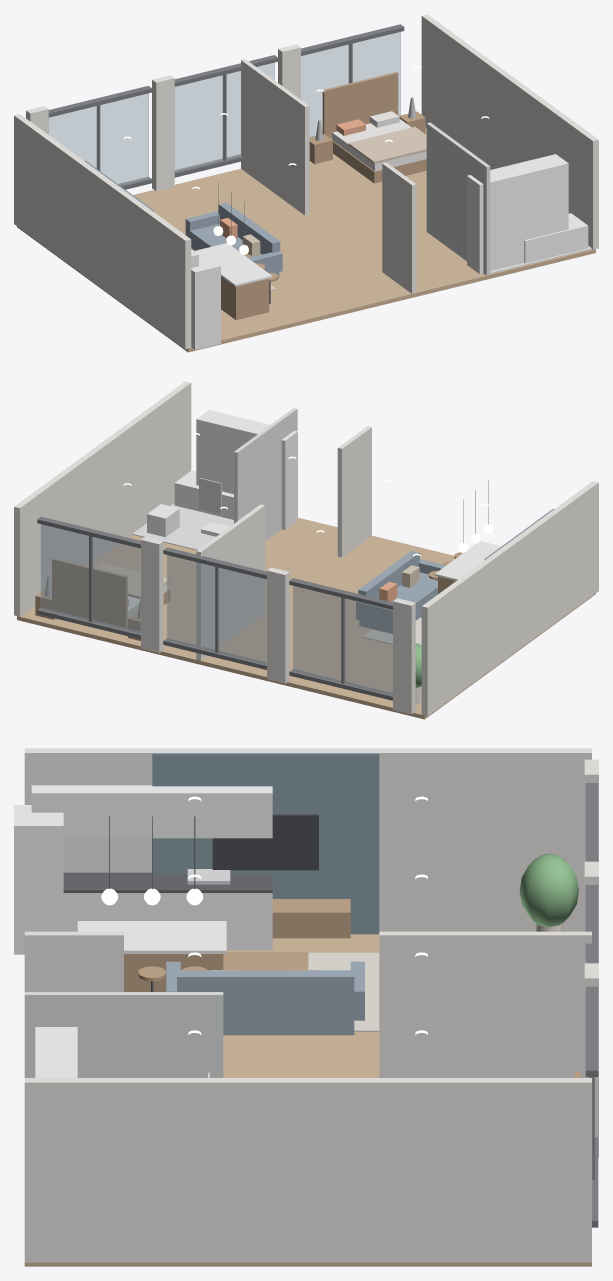
Rendered from msk-flat-2.glb.
3 renders of one model, top to bottom at view 1: azimuth 30°, elevation 25°; view 2: azimuth 150°, elevation 25°; view 3: azimuth 270°, elevation 25°, orthographic. The views are drawn at different scales.
Size of the model in its own units: 11.16 by 2.9 by 8.25.
